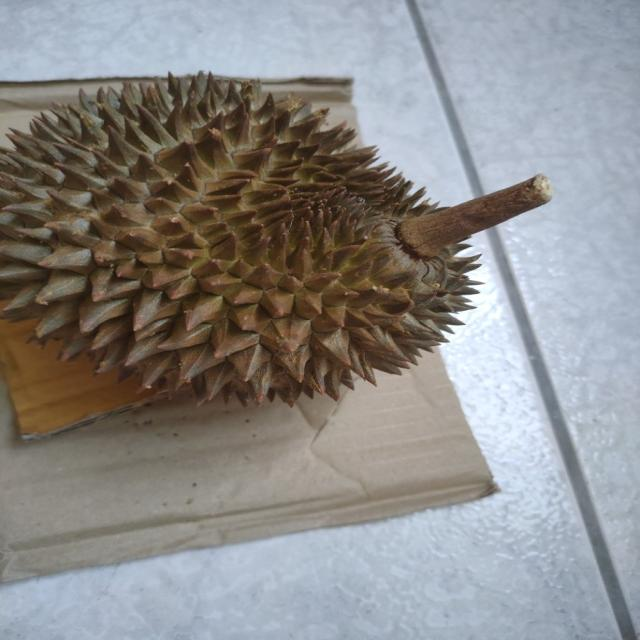mature: (0, 67, 484, 411)
